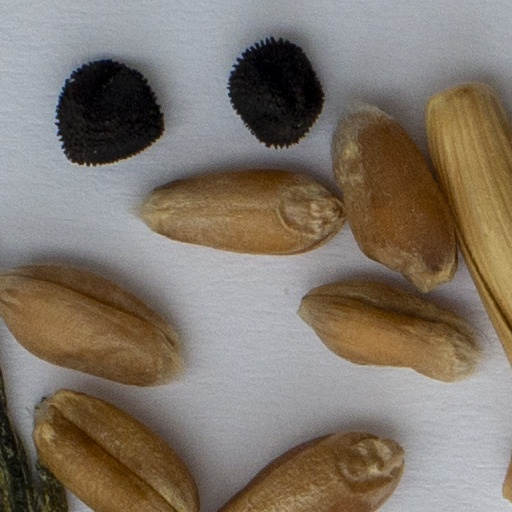Peel-poly: (427, 84, 511, 364), (0, 364, 68, 511)
